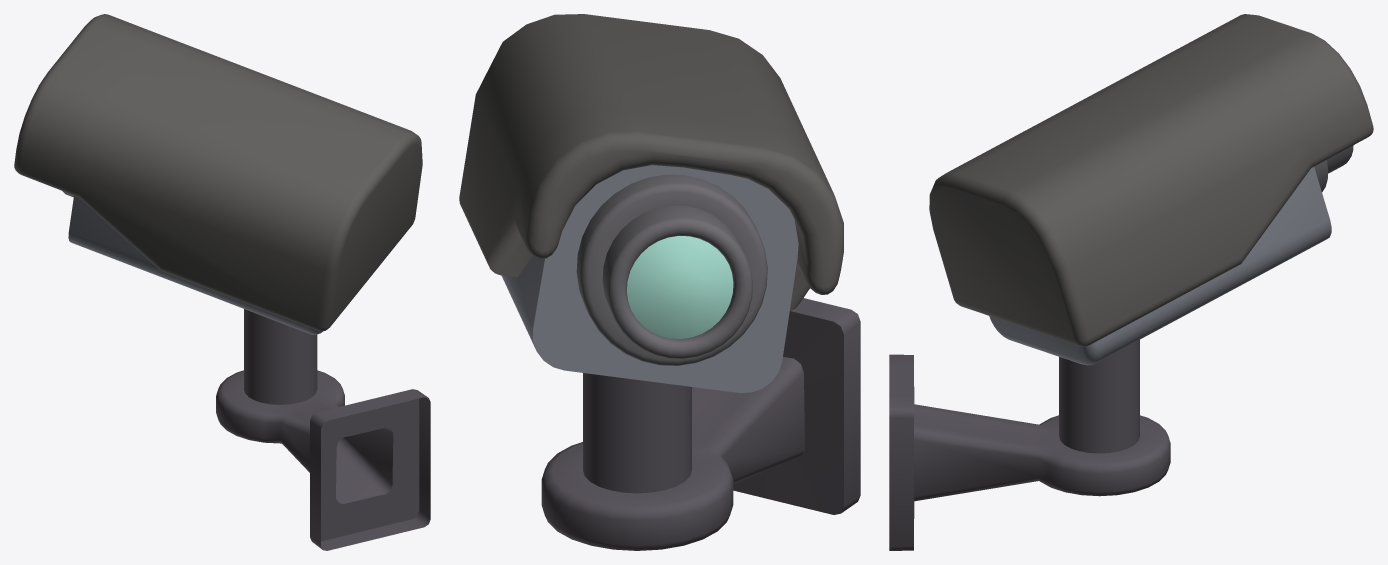
The model's file is SM_Camera.fbx.
The picture shows the model from 3 angles, left to right: view 1: azimuth 30°, elevation 25°; view 2: azimuth 150°, elevation 25°; view 3: azimuth 270°, elevation 25°; orthographic projection. The views are drawn at different scales.
Visible parts, largest first — view 1: Cylinder.001; view 2: Cylinder.001; view 3: Cylinder.001.
Part boxes in pixels (x1,y1,x2,y2): Cylinder.001: (14,14,430,550); Cylinder.001: (459,14,860,550); Cylinder.001: (889,14,1373,550).
Size of the model in its own units: 93.93 by 110 by 110.
